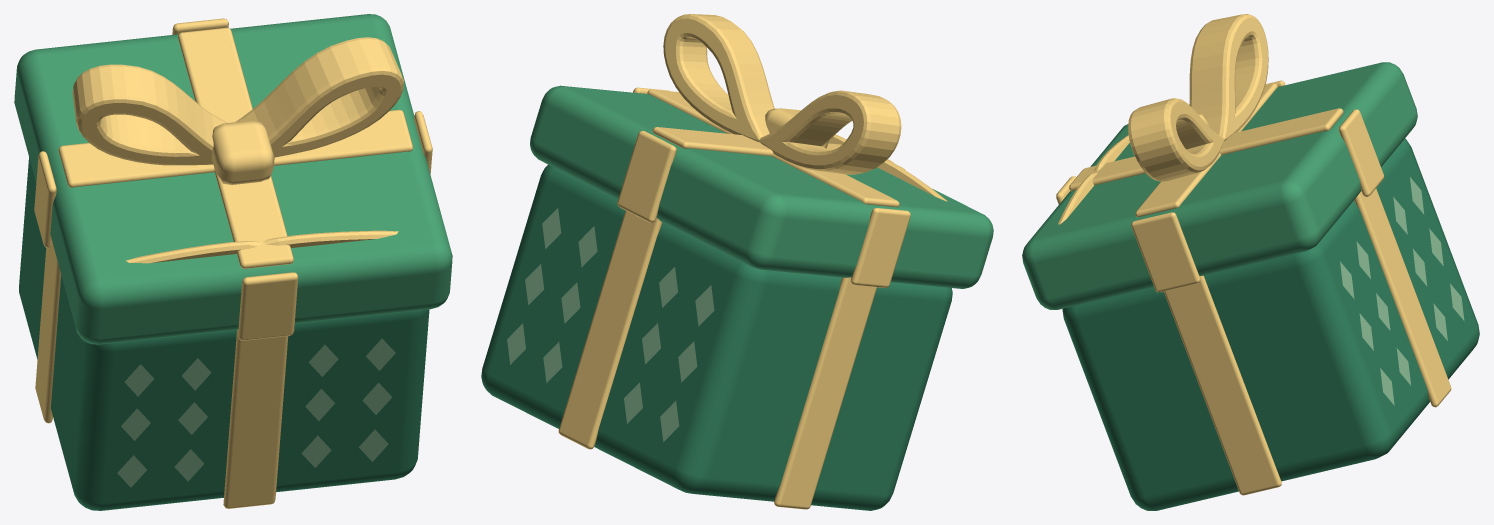
The model's file is giftgreen.glb.
3 renders of one model, left to right at view 1: azimuth 30°, elevation 25°; view 2: azimuth 150°, elevation 25°; view 3: azimuth 270°, elevation 25°, orthographic. The views are drawn at different scales.
Visible parts, largest first — view 1: giftgreen; view 2: giftgreen; view 3: giftgreen.
Boxes of the visible parts, x1,y1,x2,y2 form: giftgreen: [14, 14, 452, 510]; giftgreen: [481, 14, 993, 510]; giftgreen: [1022, 14, 1479, 510].
Size of the model in its own units: 1.02 by 1.06 by 1.09.
